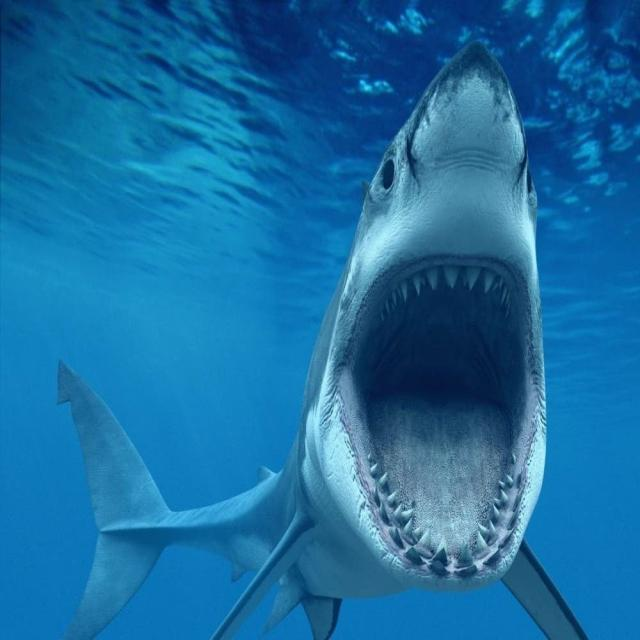shark: (58, 44, 586, 639)
